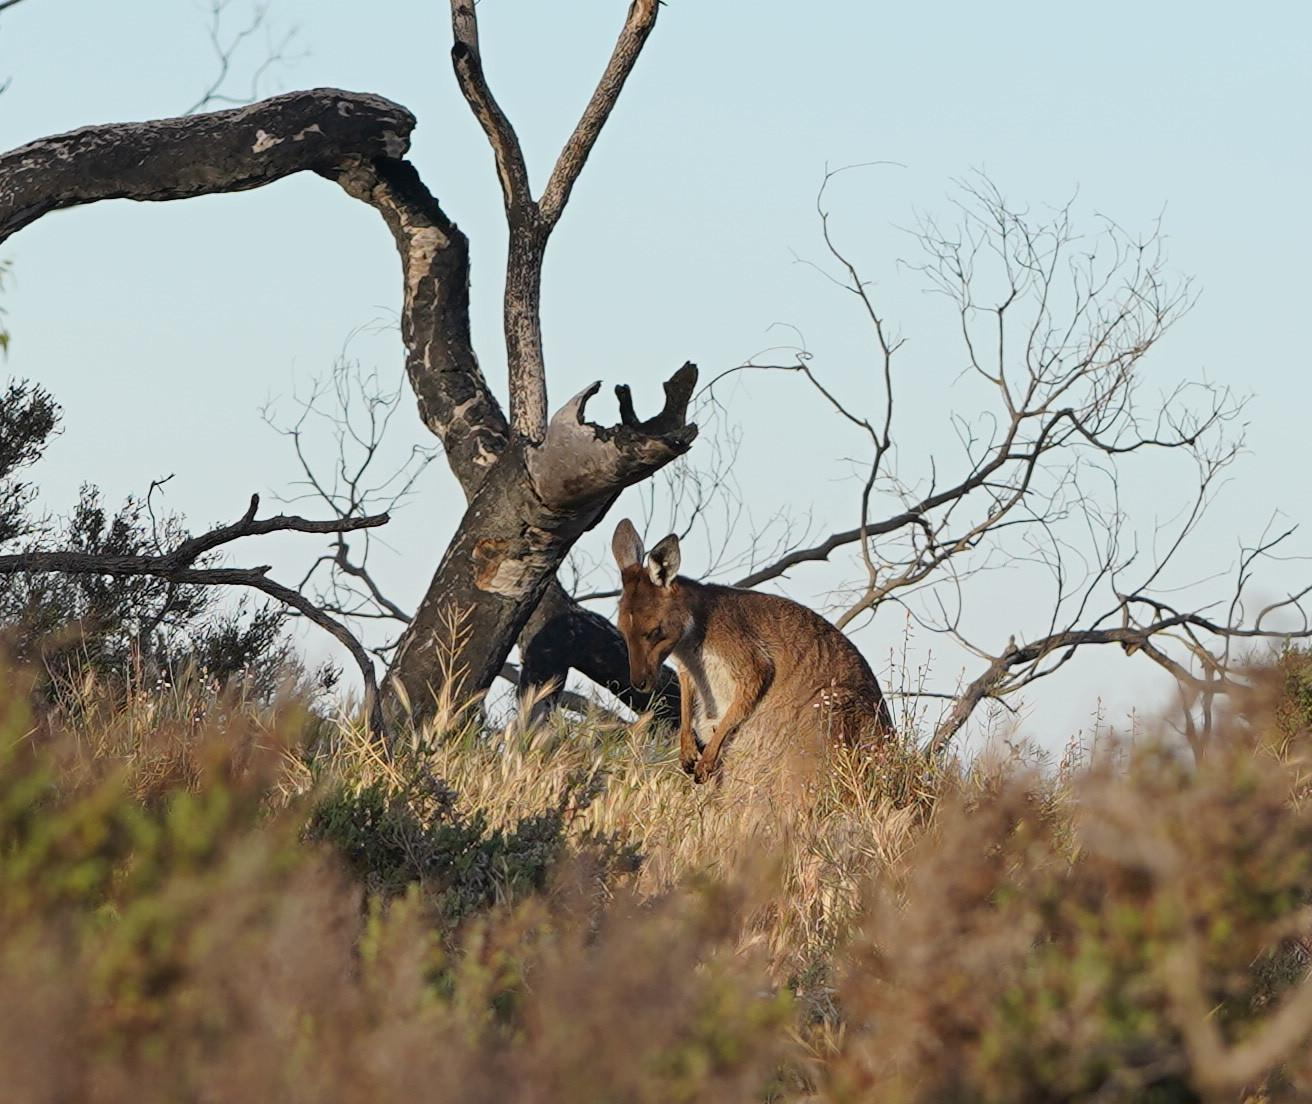Western grey kangaroo: (608, 518, 898, 832)
